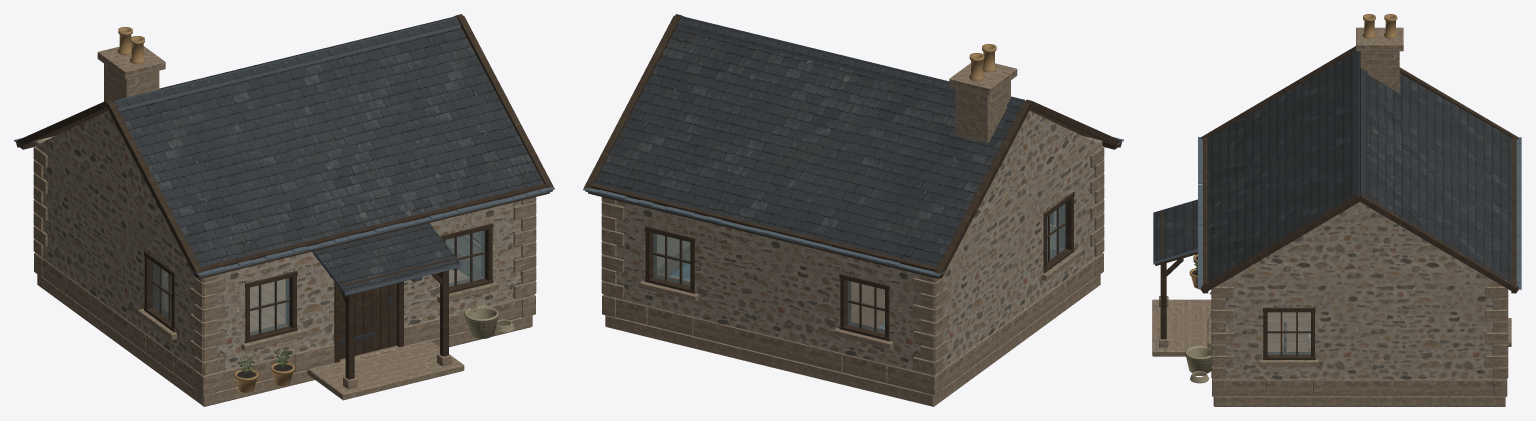
Rendered from rowan-cottage.glb.
The picture shows the model from 3 angles, left to right: view 1: azimuth 30°, elevation 25°; view 2: azimuth 150°, elevation 25°; view 3: azimuth 270°, elevation 25°; orthographic projection. The views are drawn at different scales.
Parts seen in each view (by area): view 1: roof_00, architecture_00, architecture_01, roof_01, porch_02, upper_00, windows_00, porch_00, glass_00, door_00, chimney_00, porch_01 (+7 smaller); view 2: roof_00, architecture_00, architecture_01, roof_01, upper_00, windows_00, glass_00, chimney_00, roof_02, windows_01, floor_00, chimney_01; view 3: roof_00, architecture_00, architecture_01, upper_00, roof_01, porch_00, porch_02, chimney_00, glass_00, roof_02, windows_00, floor_00 (+4 smaller).
Part boxes in pixels (x1,y1,x2,y2): roof_00: [37, 16, 551, 277]; architecture_00: [35, 136, 534, 375]; architecture_01: [33, 146, 536, 406]; roof_01: [16, 14, 553, 278]; porch_02: [312, 223, 460, 295]; upper_00: [40, 110, 178, 244]; windows_00: [144, 223, 493, 343]; porch_00: [307, 339, 464, 400]; glass_00: [153, 230, 484, 335]; door_00: [340, 283, 396, 359]; chimney_00: [97, 44, 165, 101]; porch_01: [313, 254, 457, 379]; roof_00: [586, 16, 1100, 277]; architecture_00: [603, 136, 1102, 383]; architecture_01: [601, 146, 1104, 406]; roof_01: [584, 14, 1121, 278]; upper_00: [959, 110, 1097, 244]; windows_00: [645, 192, 1074, 340]; glass_00: [653, 204, 1065, 333]; chimney_00: [949, 60, 1017, 142]; roof_02: [583, 137, 1123, 276]; windows_01: [639, 224, 1080, 349]; floor_00: [851, 282, 884, 327]; chimney_01: [969, 44, 996, 81]; roof_00: [1202, 50, 1511, 282]; architecture_00: [1213, 281, 1506, 396]; architecture_01: [1210, 286, 1508, 406]; upper_00: [1225, 202, 1494, 282]; roof_01: [1200, 46, 1518, 293]; porch_00: [1152, 296, 1211, 356]; porch_02: [1153, 199, 1197, 264]; chimney_00: [1356, 27, 1403, 92]; glass_00: [1267, 312, 1310, 354]; roof_02: [1198, 137, 1521, 289]; windows_00: [1263, 307, 1315, 359]; floor_00: [1268, 312, 1310, 351].
Bounding box in the file's own units: 8.93 × 7.13 × 9.17.
Materials: 19 (8 with a texture image).
